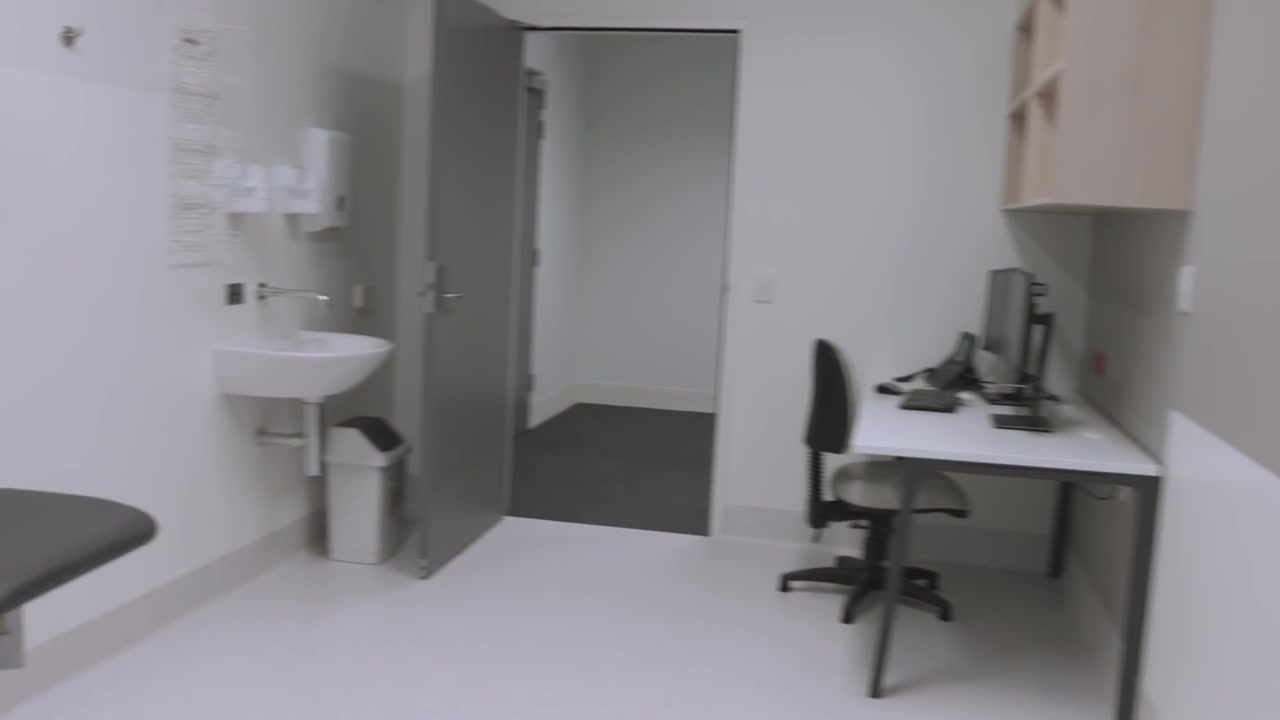cabinet: (998, 3, 1207, 217)
chair: (774, 336, 972, 624)
computer: (973, 266, 1049, 395)
dispenser: (301, 125, 354, 234)
door_handle: (426, 257, 467, 317)
faucet: (255, 281, 333, 314)
keyboard: (897, 382, 957, 414)
mouse: (872, 375, 904, 399)
sink: (217, 329, 396, 404)
table: (849, 374, 1164, 720)
waste_bin: (323, 414, 413, 565)
